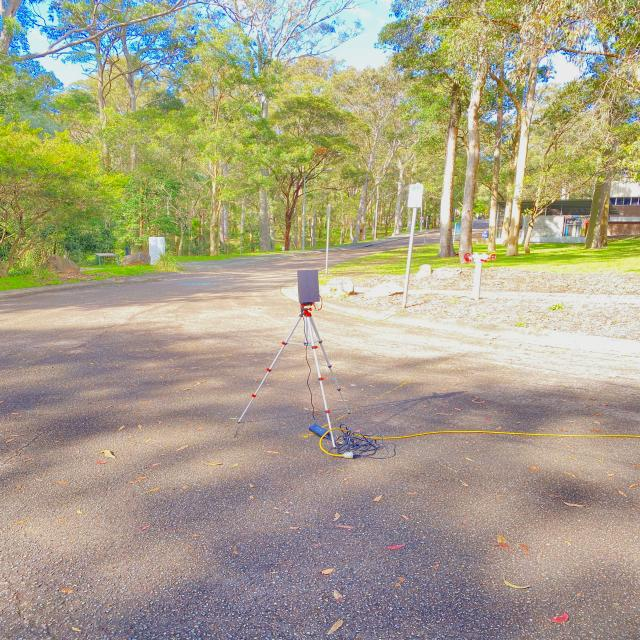matrix: (295, 267, 323, 304)
